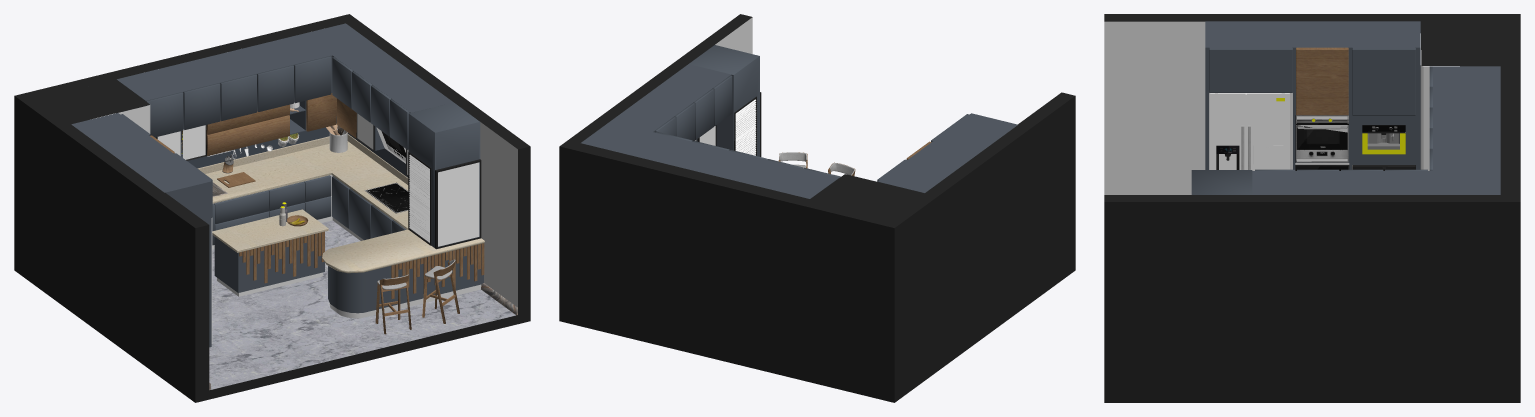
File: kitchen-plain.glb
The picture shows the model from 3 angles, left to right: view 1: azimuth 30°, elevation 25°; view 2: azimuth 150°, elevation 25°; view 3: azimuth 270°, elevation 25°; orthographic projection. The views are drawn at different scales.
Parts seen in each view (by area): view 1: Cabinets, CLC855_URBAN, Walls, Component, TRB_84300, DDDD.001, Sink; view 2: CLC855_URBAN, Cabinets, Stool; view 3: CLC855_URBAN, Cabinets, RLF_74925, HLB_840.
Boxes of the visible parts, <box> form: Cabinets: <box>71,23,517,347</box>; CLC855_URBAN: <box>14,14,530,402</box>; Walls: <box>187,120,515,389</box>; Component: <box>157,102,479,246</box>; TRB_84300: <box>364,182,408,213</box>; DDDD.001: <box>290,108,347,152</box>; Sink: <box>209,182,517,390</box>; CLC855_URBAN: <box>559,14,1075,402</box>; Cabinets: <box>581,17,1017,198</box>; Stool: <box>779,152,854,176</box>; CLC855_URBAN: <box>1104,14,1520,402</box>; Cabinets: <box>1104,21,1500,194</box>; RLF_74925: <box>1210,93,1289,170</box>; HLB_840: <box>1295,115,1348,170</box>.
Size of the model in its own units: 10.83 by 5.4 by 10.13.
67 materials, 29 textured.
